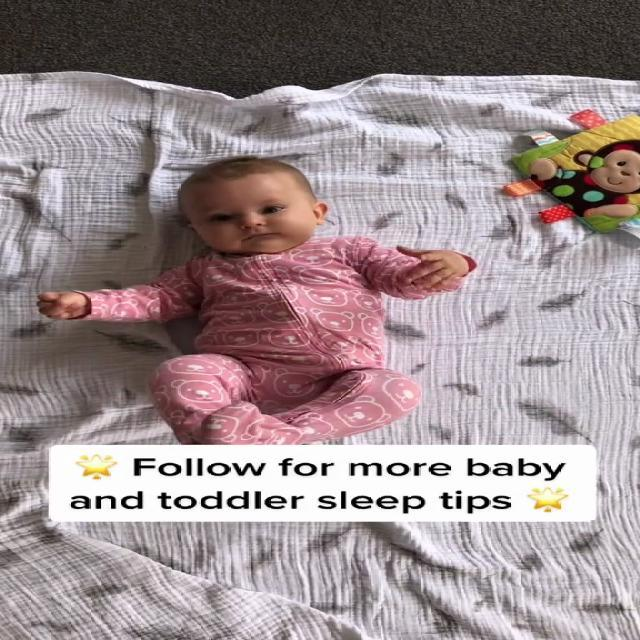baby: (41, 156, 487, 449)
